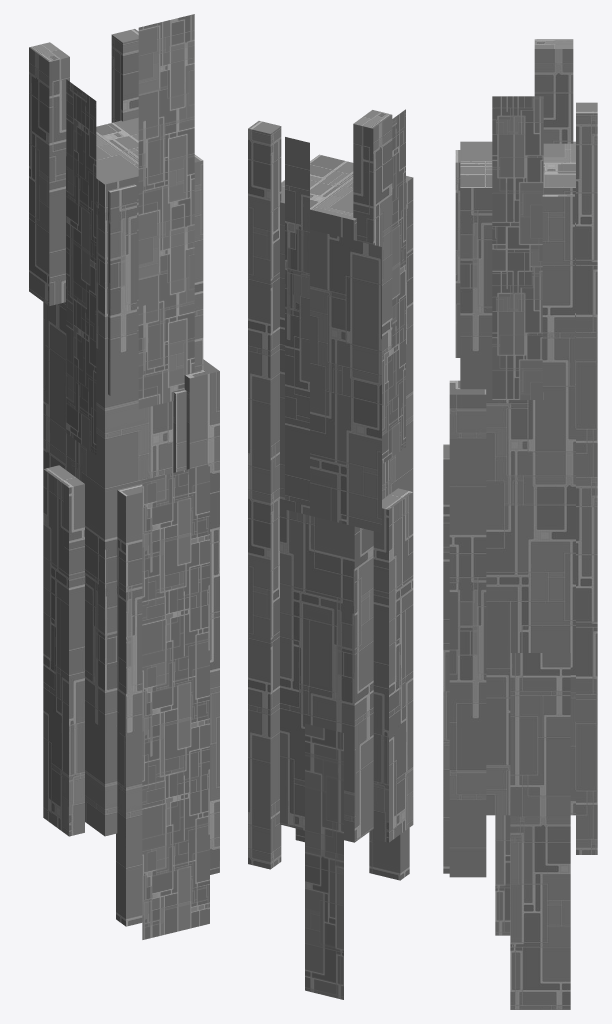
Rendered from SM_architecture_module_03.glb.
3 renders of one model, left to right at view 1: azimuth 30°, elevation 25°; view 2: azimuth 150°, elevation 25°; view 3: azimuth 270°, elevation 25°, orthographic. The views are drawn at different scales.
Visible parts, largest first — view 1: SM_architecture_module_03; view 2: SM_architecture_module_03; view 3: SM_architecture_module_03.
Part boxes in pixels (bbox=[...]): SM_architecture_module_03: bbox=[29, 14, 219, 939]; SM_architecture_module_03: bbox=[248, 109, 413, 999]; SM_architecture_module_03: bbox=[443, 39, 597, 1009].
Bounding box in the file's own units: 1.54 × 10.67 × 1.55.
Materials: 2 (2 with a texture image).
